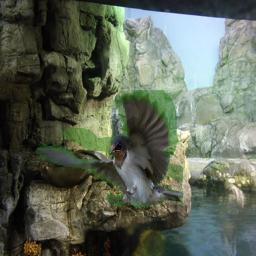Swallow: (37, 91, 184, 208)
